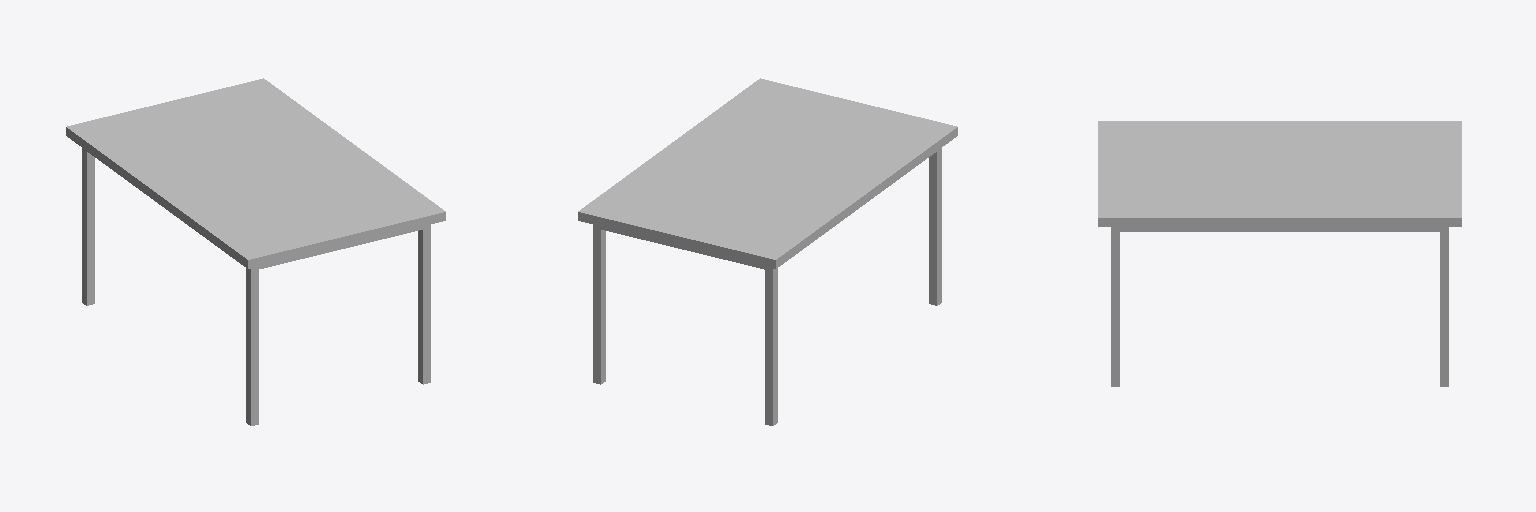
File: table.obj
The picture shows the model from 3 angles: view 1: azimuth 30°, elevation 25°; view 2: azimuth 150°, elevation 25°; view 3: azimuth 270°, elevation 25°; orthographic projection.
Visible parts, largest first — view 1: Cube, Cube.4, Cube.1_1, Cube.2_3; view 2: Cube, Cube.2_3, Cube.3, Cube.1_1; view 3: Cube, Cube.2, Cube.3, Cube.4.
Part boxes in pixels (bbox=[...]): Cube: bbox=[66, 78, 445, 268]; Cube.4: bbox=[418, 225, 430, 384]; Cube.1_1: bbox=[246, 268, 258, 425]; Cube.2_3: bbox=[82, 148, 94, 305]; Cube: bbox=[578, 78, 957, 268]; Cube.2_3: bbox=[765, 268, 777, 425]; Cube.3: bbox=[593, 228, 605, 384]; Cube.1_1: bbox=[929, 148, 941, 305]; Cube: bbox=[1098, 121, 1461, 226]; Cube.2: bbox=[1111, 227, 1448, 231]; Cube.3: bbox=[1440, 232, 1448, 386]; Cube.4: bbox=[1111, 232, 1119, 386].
Bounding box in the file's own units: 765 × 641 × 1220.